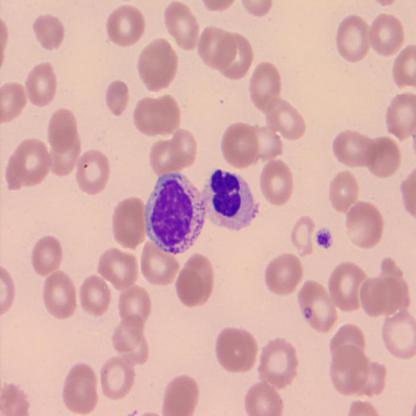Myelocyte: (144, 171, 203, 254), (212, 168, 254, 232)
